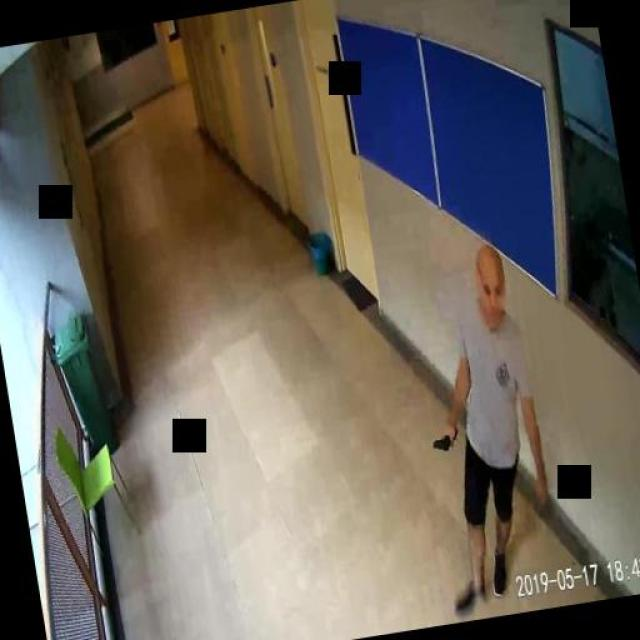gun: (429, 423, 459, 452)
